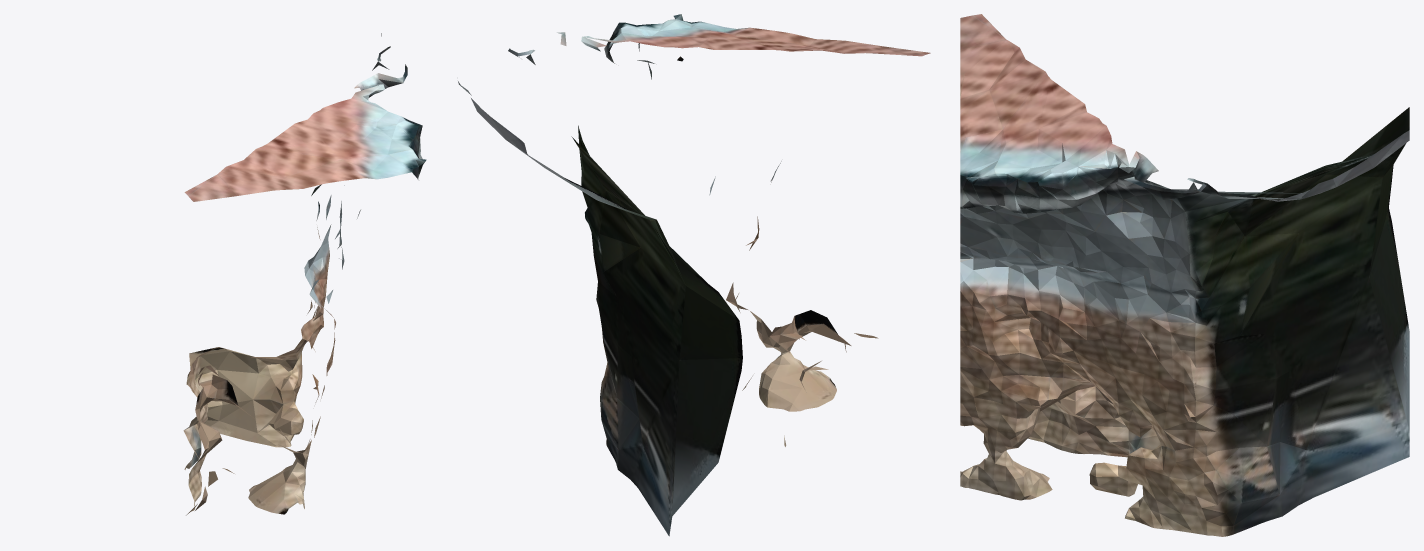
3 renders of one model, left to right at view 1: azimuth 30°, elevation 25°; view 2: azimuth 150°, elevation 25°; view 3: azimuth 270°, elevation 25°, orthographic. The views are drawn at different scales.
Size of the model in its own units: 3.29 by 3.35 by 3.35.
Materials: 5 (5 with a texture image).
